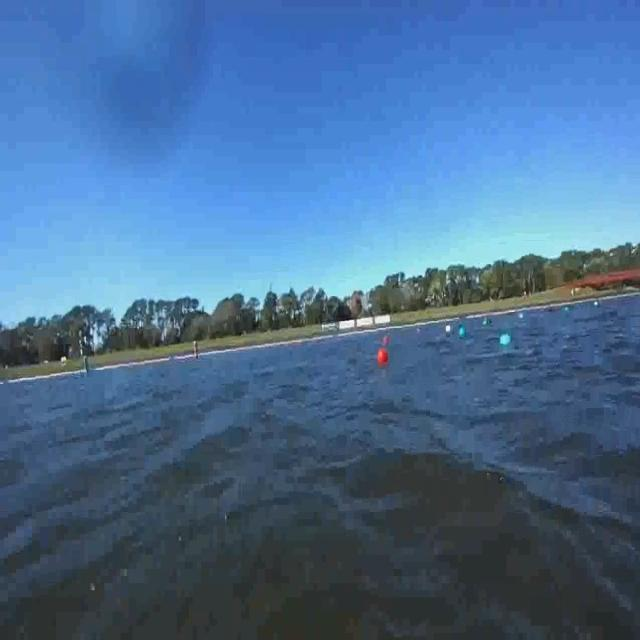green-buoy: (499, 334, 511, 348), (459, 326, 466, 338)
red-buoy: (378, 348, 390, 368)
